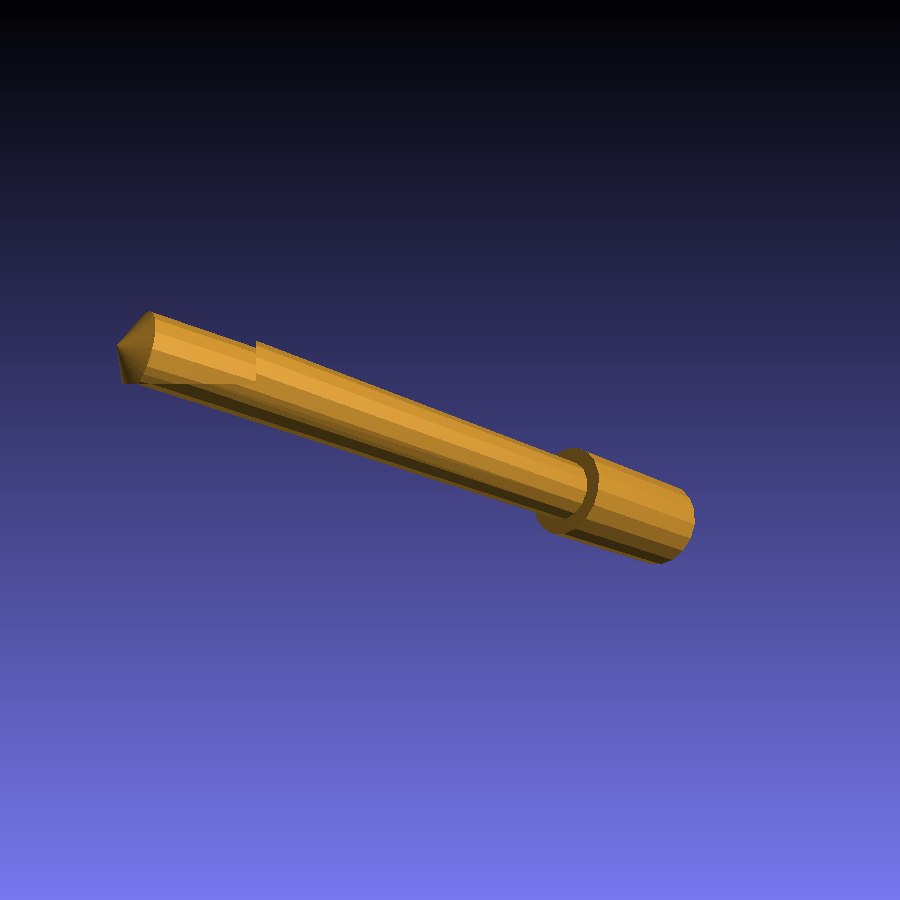cargo_g: (118, 309, 696, 563)
